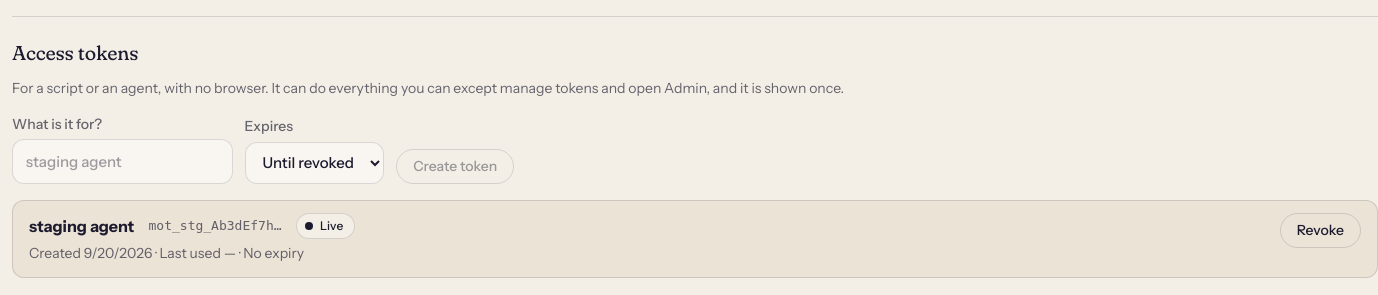
Test: AccessTokens › revokes a token and marks the row rather than removing it
Click the button "Revoke".
click(1320, 230)  # box [1280,213,1361,248]
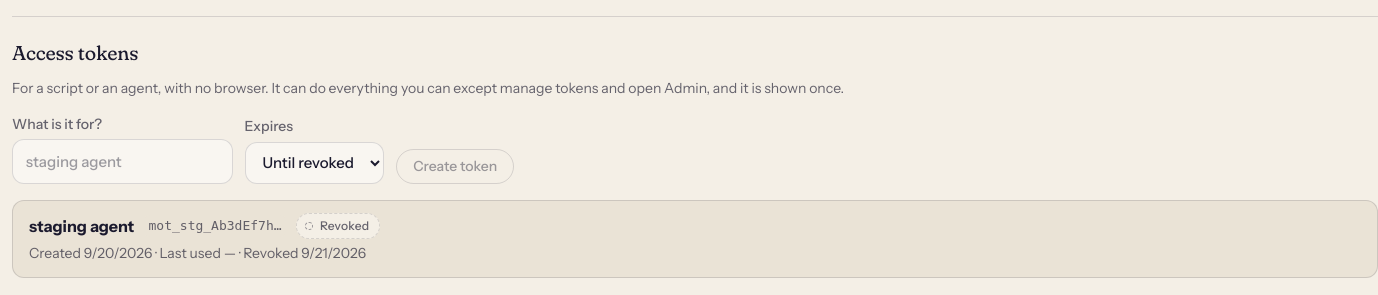
Check: the text "staging agent" is shown, box [29,214,134,238]
Check: the text "Revoked" is shown, box [296,213,380,239]
